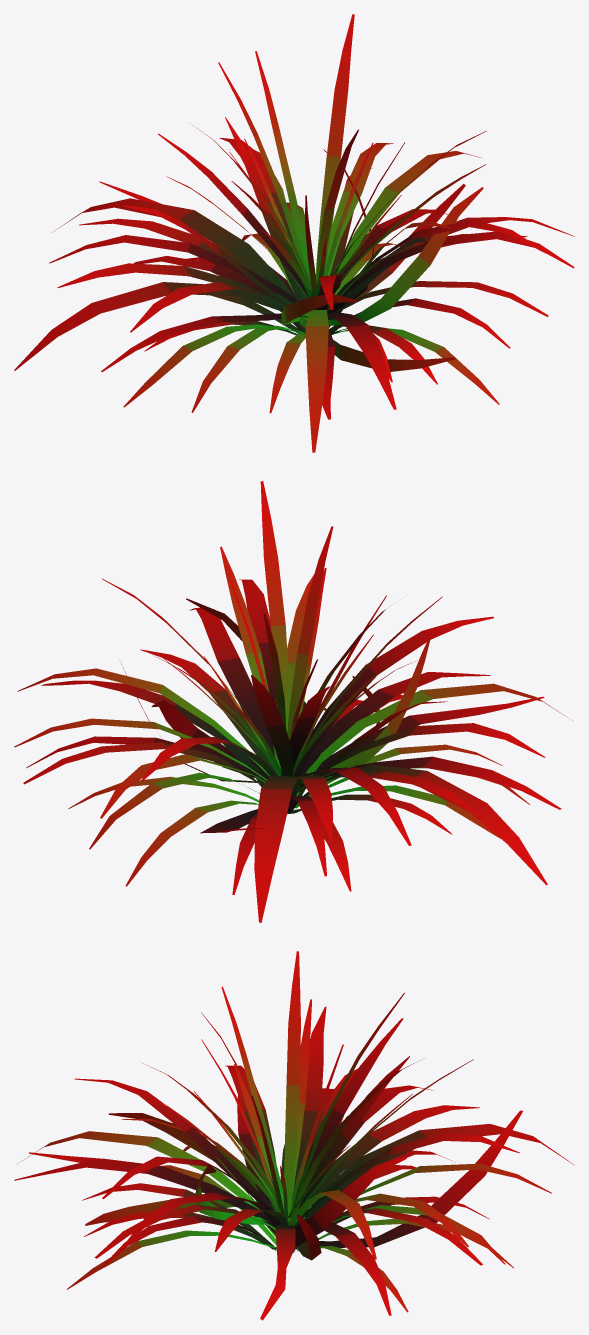
Rendered from Ribbon Plant_LOD3_Var1_rhDrj.fbx.
The picture shows the model from 3 angles, top to bottom: view 1: azimuth 30°, elevation 25°; view 2: azimuth 150°, elevation 25°; view 3: azimuth 270°, elevation 25°; orthographic projection. The views are drawn at different scales.
Visible parts, largest first — view 1: _b51f_Var1_LOD3; view 2: _b51f_Var1_LOD3; view 3: _b51f_Var1_LOD3.
Part boxes in pixels (left/top/right/bottom): _b51f_Var1_LOD3: left=14, top=14, right=574, bottom=452; _b51f_Var1_LOD3: left=14, top=481, right=573, bottom=922; _b51f_Var1_LOD3: left=14, top=951, right=574, bottom=1320.
Bounding box in the file's own units: 59.35 × 27.18 × 55.59.
